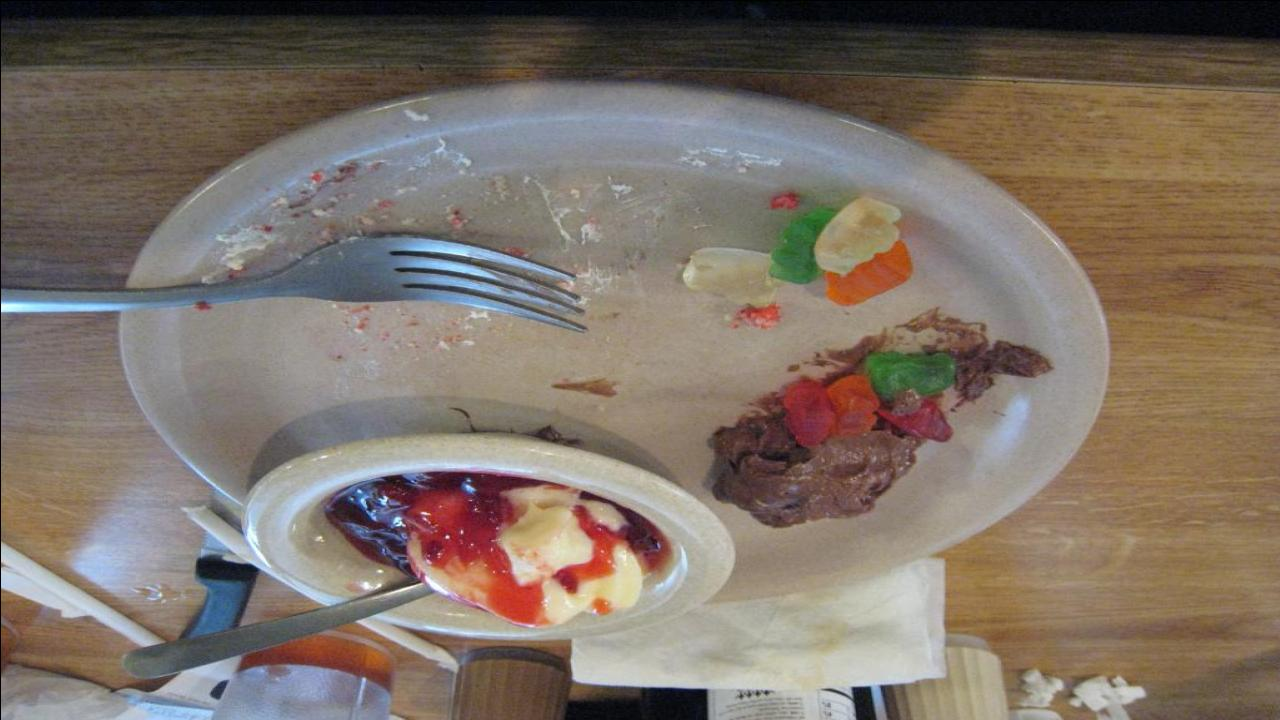fork: (0, 232, 584, 336)
